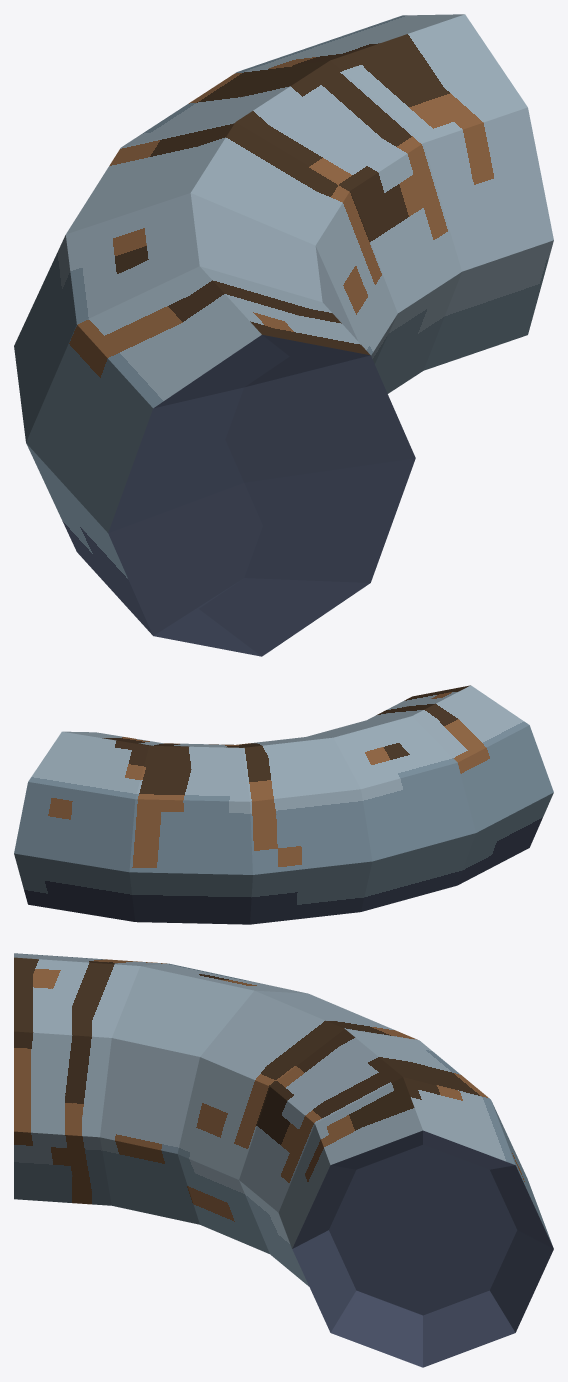
Rendered from IND-04_Tubo_codo.gltf.
3 views of the same model, one above another, from view 1: azimuth 30°, elevation 25°; view 2: azimuth 150°, elevation 25°; view 3: azimuth 270°, elevation 25° (orthographic). The views are drawn at different scales.
Parts seen in each view (by area): view 1: IND-04_Tubo_codo-convcol; view 2: IND-04_Tubo_codo-convcol; view 3: IND-04_Tubo_codo-convcol.
Part boxes in pixels (x1,y1,x2,y2): IND-04_Tubo_codo-convcol: (14,14,553,656); IND-04_Tubo_codo-convcol: (14,685,553,924); IND-04_Tubo_codo-convcol: (14,953,553,1367).
Bounding box in the file's own units: 0.66 × 0.32 × 0.66.
Materials: 1 (1 with a texture image).
